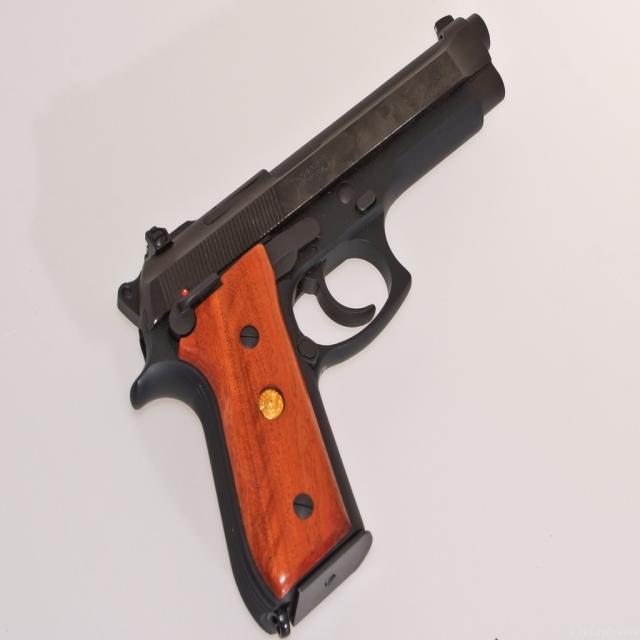Gun: (118, 15, 504, 636)
